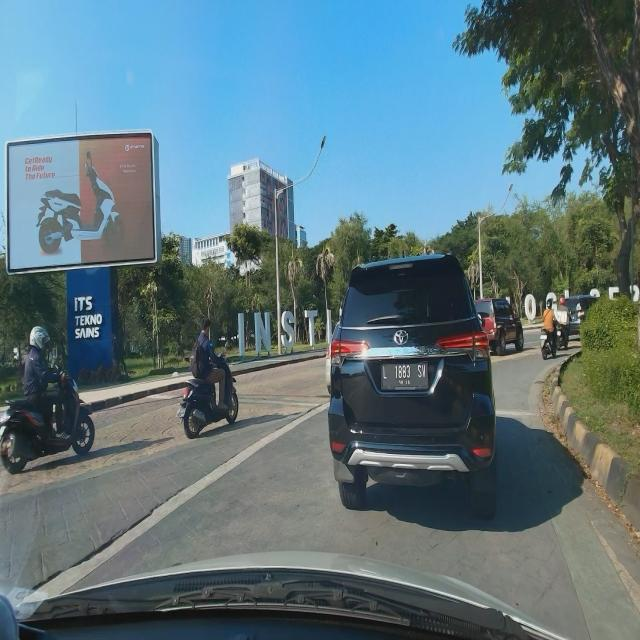car: (328, 249, 499, 526)
license-plate: (381, 362, 428, 389)
